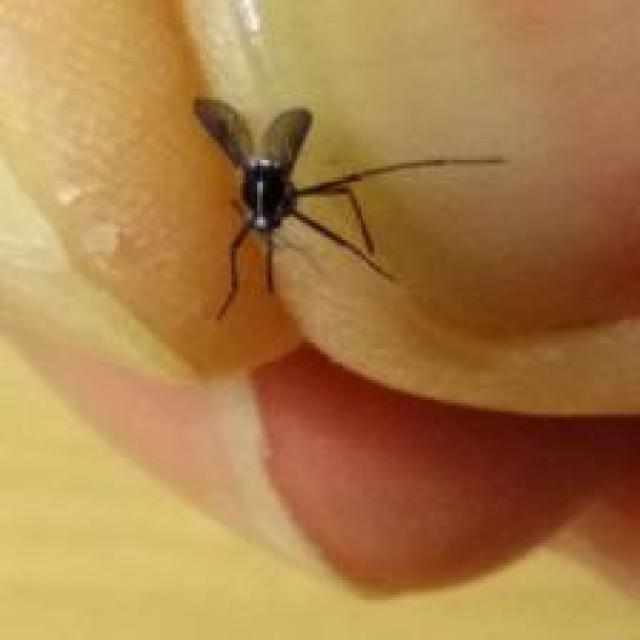Aedes albopictus: (188, 94, 506, 323)
